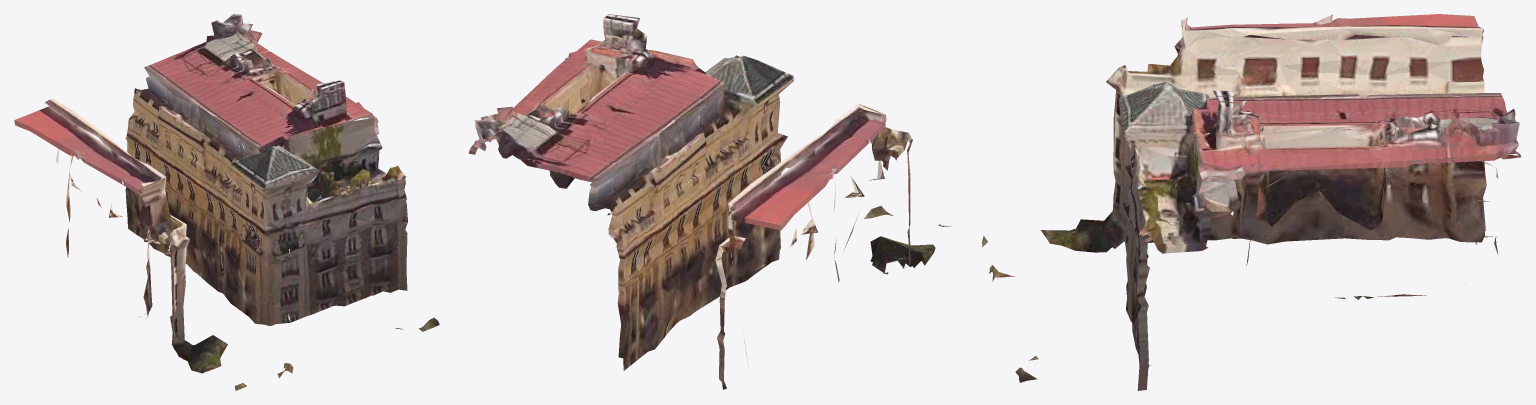
The picture shows the model from 3 angles, left to right: view 1: azimuth 30°, elevation 25°; view 2: azimuth 150°, elevation 25°; view 3: azimuth 270°, elevation 25°; orthographic projection. The views are drawn at different scales.
Parts seen in each view (by area): view 1: Mesh_0; view 2: Mesh_0; view 3: Mesh_0.
Boxes of the visible parts, box(x1,y1,x2,y2) form: Mesh_0: box(14, 14, 439, 390); Mesh_0: box(468, 14, 950, 389); Mesh_0: box(982, 14, 1521, 390).
Size of the model in its own units: 32.35 by 22.67 by 41.4.
Materials: 2 (2 with a texture image).
